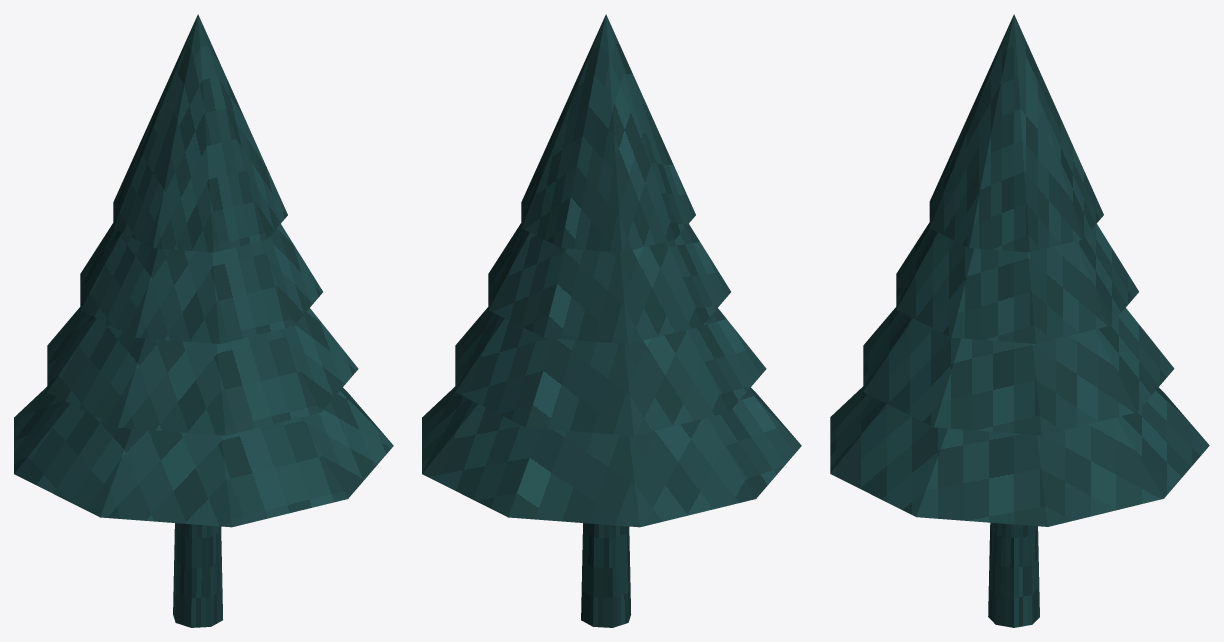
The model's file is pine_28.glb.
The picture shows the model from 3 angles, left to right: view 1: azimuth 30°, elevation 25°; view 2: azimuth 150°, elevation 25°; view 3: azimuth 270°, elevation 25°; orthographic projection.
Visible parts, largest first — view 1: Needles, Needles.001, Needles.003, Needles.002, Trunk; view 2: Needles, Needles.001, Needles.003, Needles.002, Trunk; view 3: Needles, Needles.001, Needles.003, Needles.002, Trunk.
Boxes of the visible parts, x1=… form: Needles: x1=14, y1=386, x2=393, y2=527; Needles.001: x1=47, y1=307, x2=358, y2=435; Needles.003: x1=113, y1=14, x2=287, y2=252; Needles.002: x1=80, y1=223, x2=322, y2=344; Trunk: x1=173, y1=523, x2=222, y2=627; Needles: x1=422, y1=386, x2=801, y2=527; Needles.001: x1=455, y1=307, x2=766, y2=435; Needles.003: x1=521, y1=14, x2=695, y2=252; Needles.002: x1=488, y1=223, x2=730, y2=344; Trunk: x1=581, y1=523, x2=631, y2=627; Needles: x1=830, y1=386, x2=1209, y2=526; Needles.001: x1=863, y1=307, x2=1174, y2=435; Needles.003: x1=929, y1=14, x2=1103, y2=252; Needles.002: x1=896, y1=222, x2=1138, y2=343; Trunk: x1=988, y1=522, x2=1039, y2=627.
Size of the model in its own units: 2.97 by 5.13 by 2.93.
Materials: 1 (1 with a texture image).
